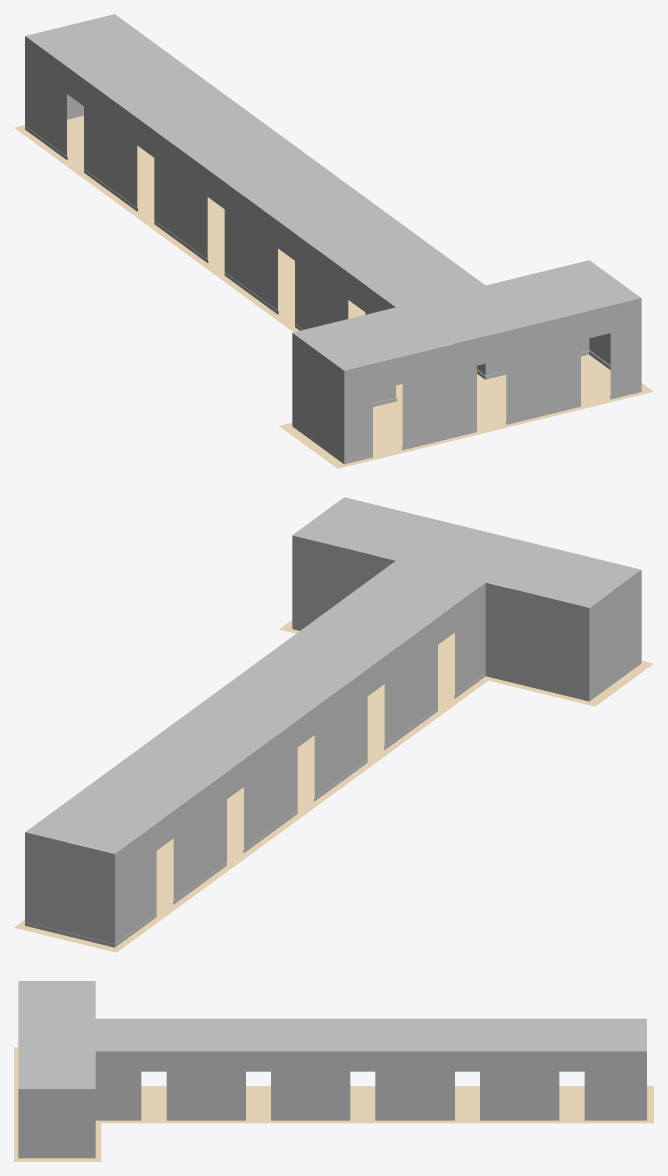
The model's file is Building.fbx.
The picture shows the model from 3 angles, top to bottom: view 1: azimuth 30°, elevation 25°; view 2: azimuth 150°, elevation 25°; view 3: azimuth 270°, elevation 25°; orthographic projection. The views are drawn at different scales.
Visible parts, largest first — view 1: Ceiling, Wall_with_Doors_2, Wall_with_Doors_1, Floor, Wall_4; view 2: Ceiling, Wall_with_Doors_2, Floor, Wall_2, Wall_1, Wall_3, Wall_4; view 3: Wall_with_Doors_3, Ceiling, Floor, Wall_5.
Part boxes in pixels (bbox=[...]): Ceiling: bbox=[25, 14, 640, 370]; Wall_with_Doors_2: bbox=[25, 36, 395, 330]; Wall_with_Doors_1: bbox=[344, 298, 641, 464]; Floor: bbox=[14, 115, 653, 468]; Wall_4: bbox=[292, 333, 344, 463]; Ceiling: bbox=[25, 497, 640, 853]; Wall_with_Doors_2: bbox=[115, 583, 485, 947]; Floor: bbox=[14, 615, 653, 952]; Wall_2: bbox=[485, 583, 589, 701]; Wall_1: bbox=[25, 832, 114, 947]; Wall_3: bbox=[292, 535, 395, 630]; Wall_4: bbox=[589, 570, 641, 701]; Wall_with_Doors_3: bbox=[95, 1051, 646, 1120]; Ceiling: bbox=[18, 981, 646, 1088]; Floor: bbox=[14, 1047, 653, 1161]; Wall_5: bbox=[18, 1089, 95, 1158].
Size of the model in its own units: 986 by 280 by 2326.
